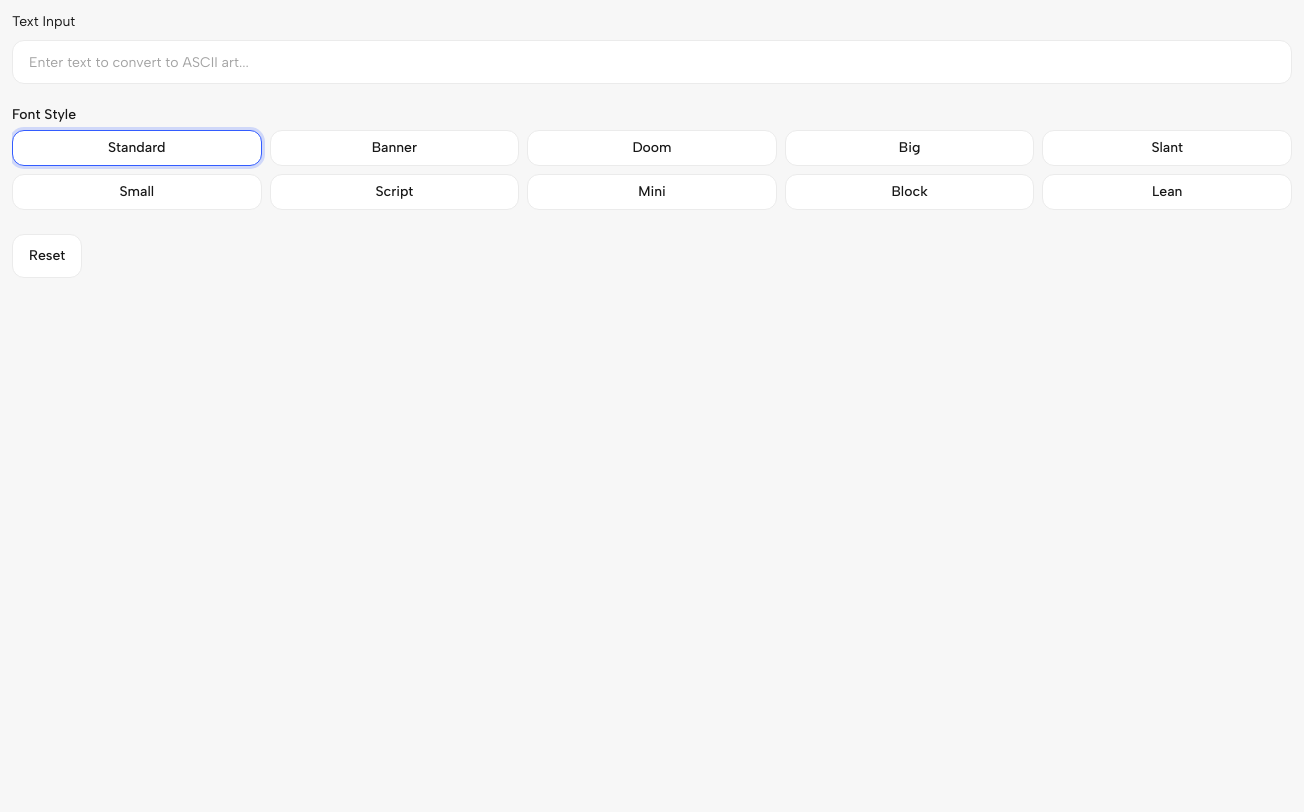
Test case: AsciiArtTool › handles numbers in input
Type "123" into the field at (652, 62), box [12,40,1292,84]
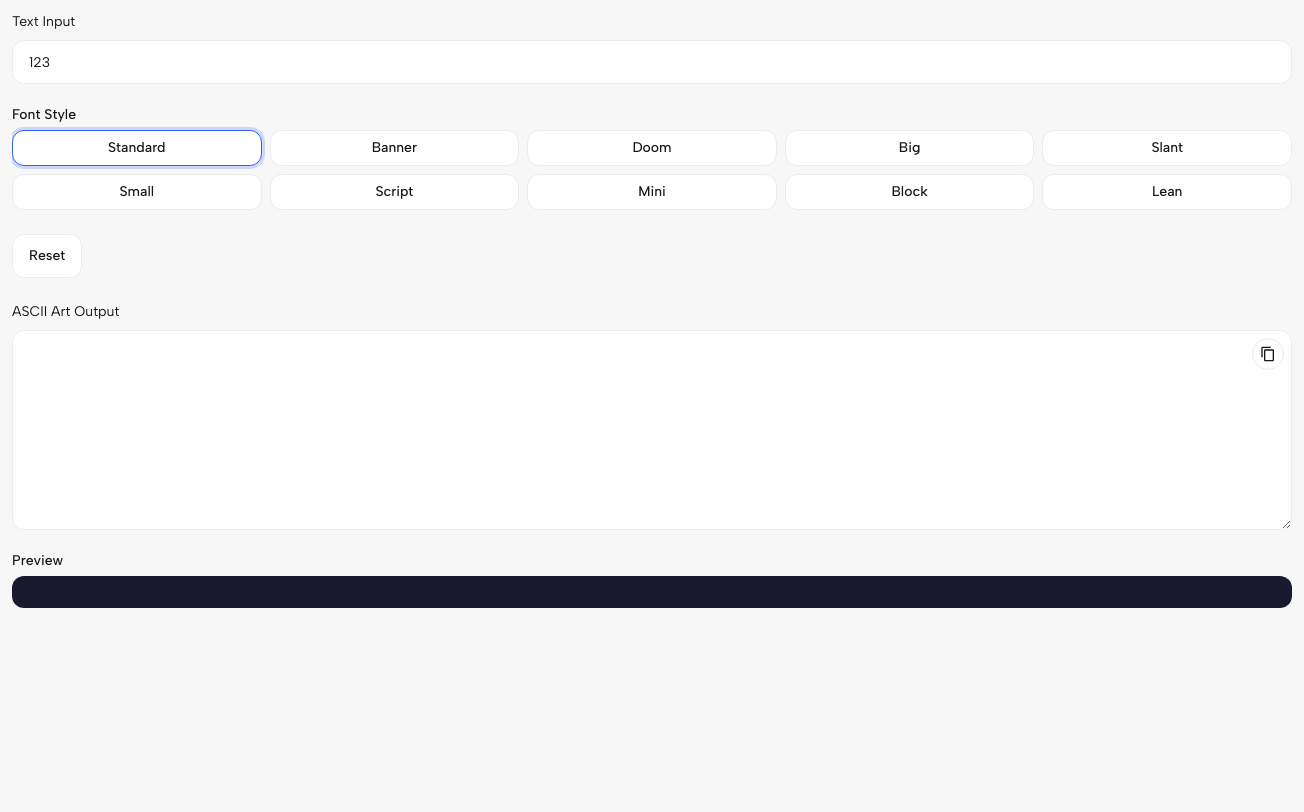
Expected: the text "ASCII Art Output" is shown, [12,303,119,320]
